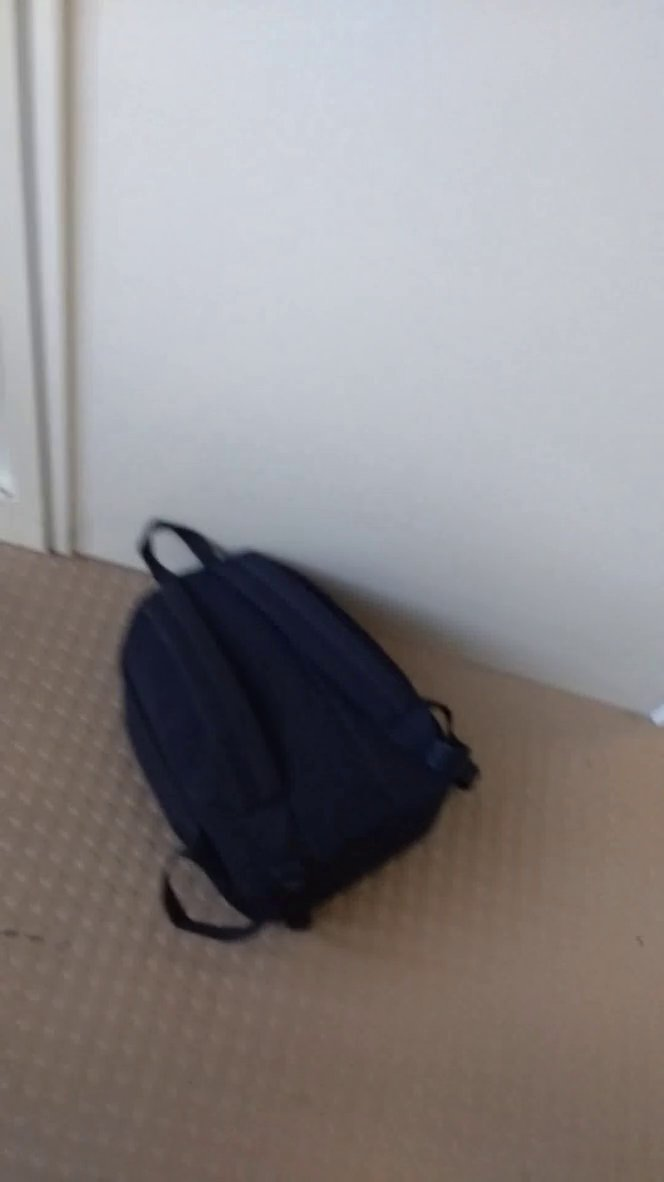bag: (109, 509, 493, 950)
